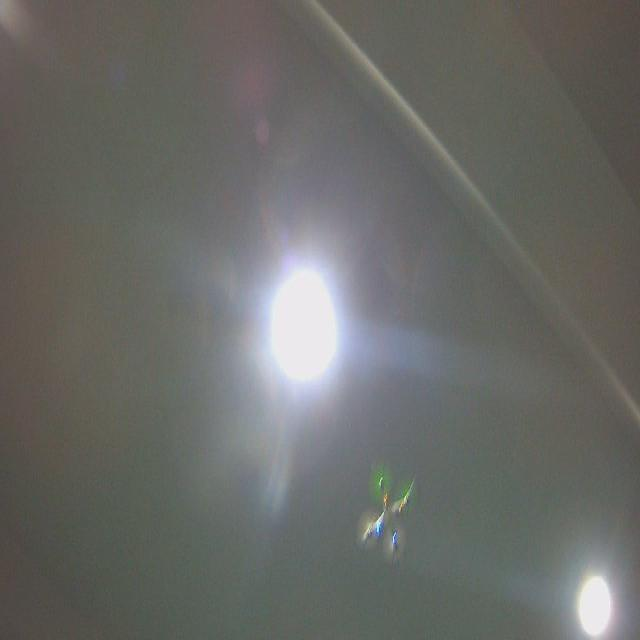drone: (350, 452, 425, 570)
